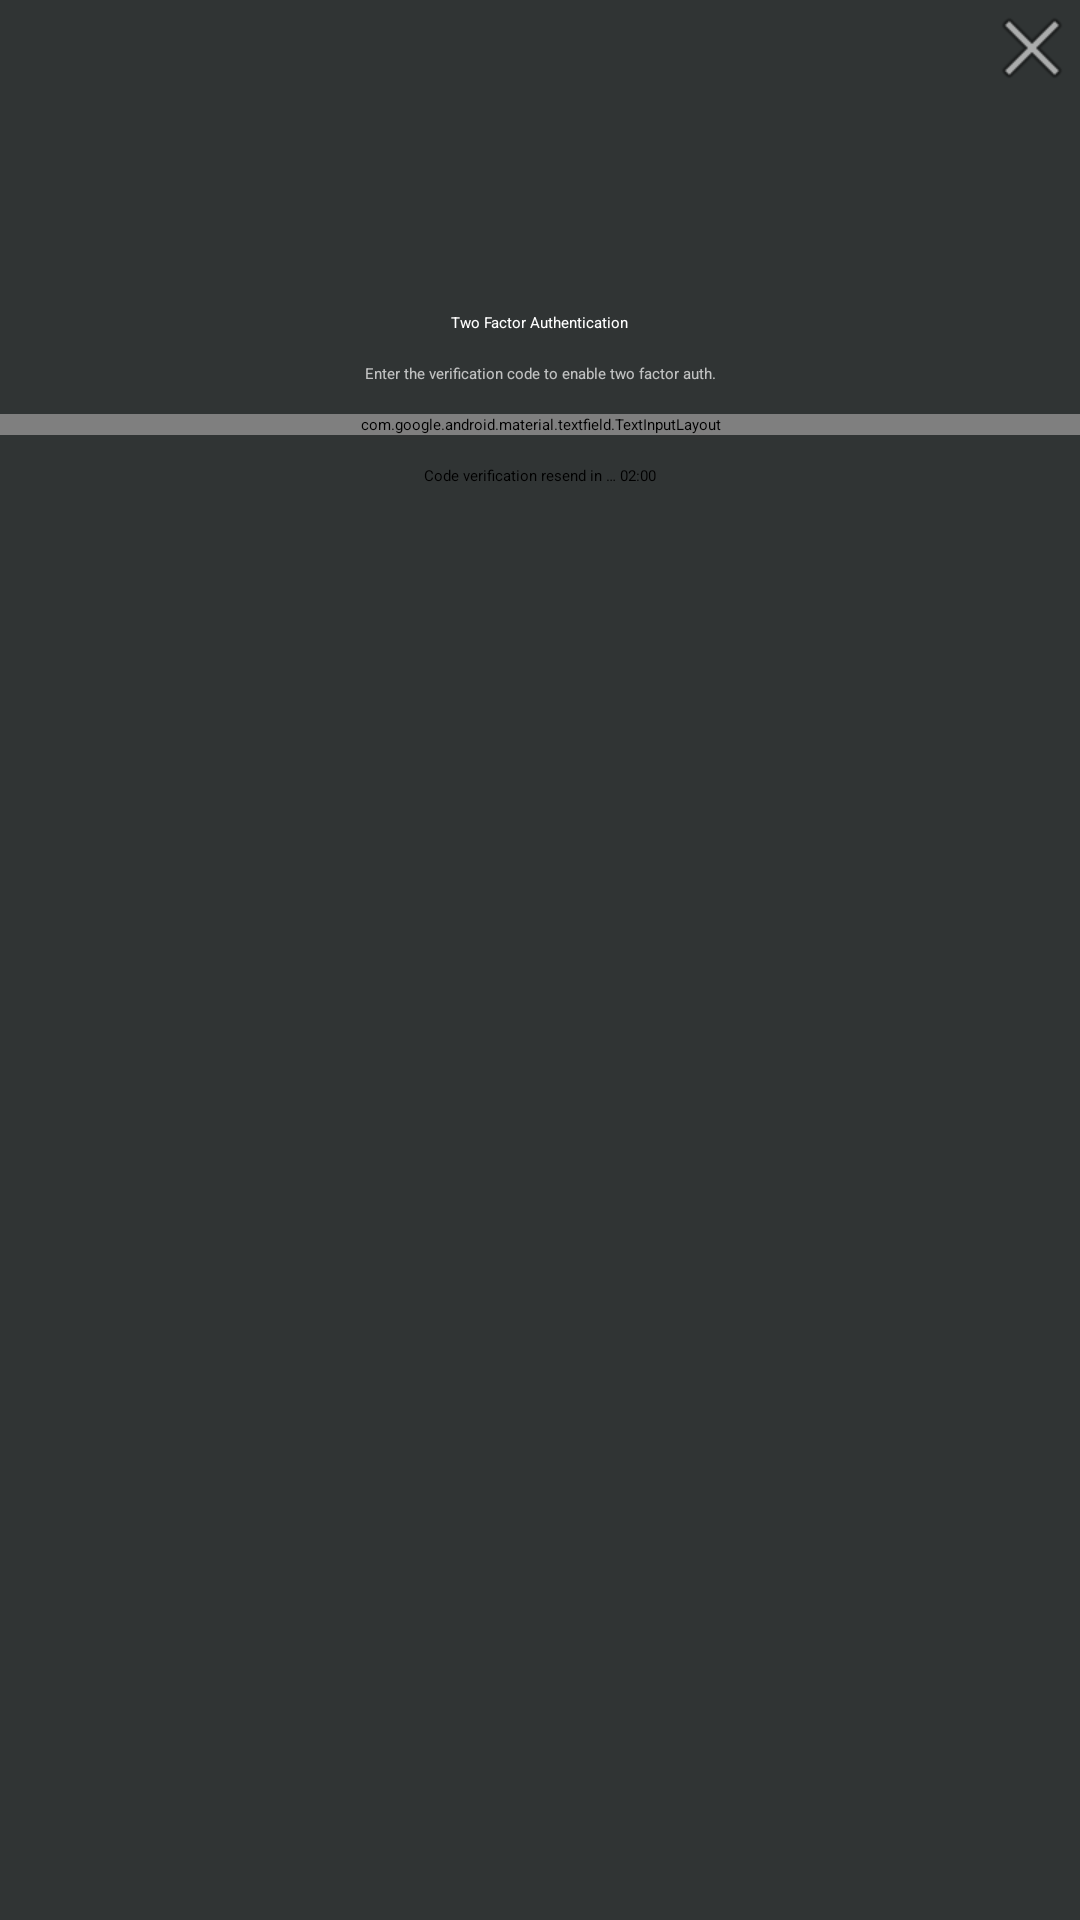

Named icons in this screenshot (1080px×1920px) and their bounding boxes, (x1, y1, x2, y2):
Close: (1005, 21, 1059, 75)
